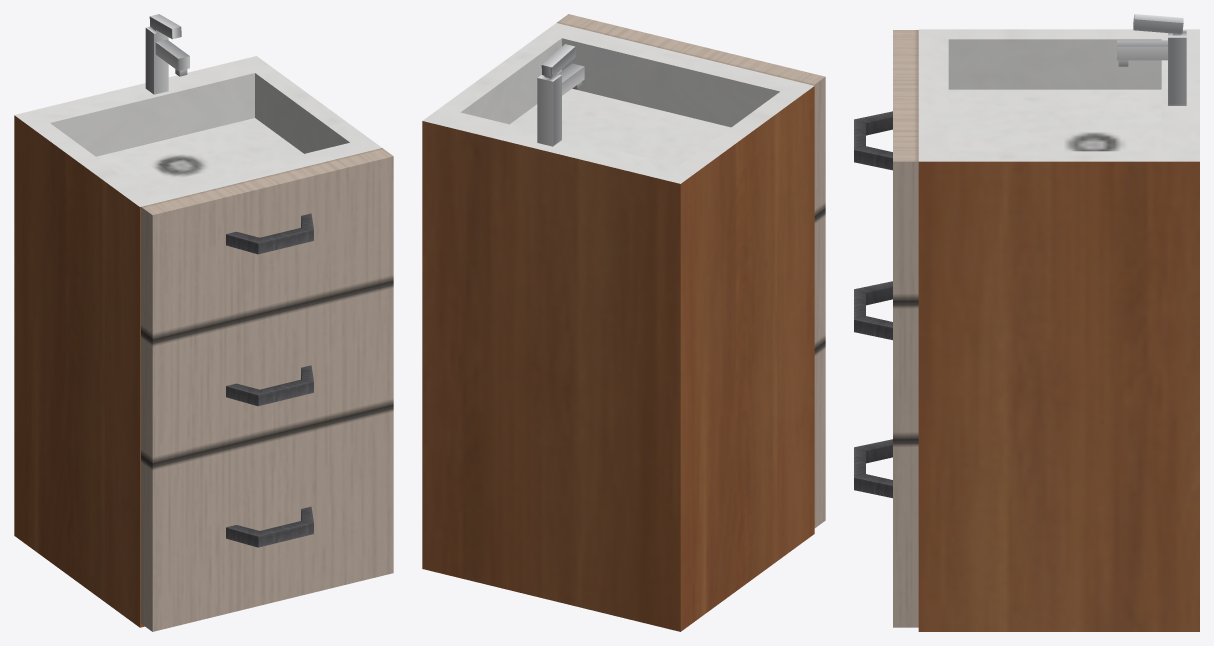
Rendered from Bath_Wash_basin_1B.fbx.
3 renders of one model, left to right at view 1: azimuth 30°, elevation 25°; view 2: azimuth 150°, elevation 25°; view 3: azimuth 270°, elevation 25°, orthographic. The views are drawn at different scales.
Visible parts, largest first — view 1: polySurface1549; view 2: polySurface1549; view 3: polySurface1549.
Boxes of the visible parts, x1,y1,x2,y2 form: polySurface1549: (14,14,393,631); polySurface1549: (422,14,825,631); polySurface1549: (854,14,1199,631).
Bounding box in the file's own units: 0.7754 × 1.52 × 0.8565.
